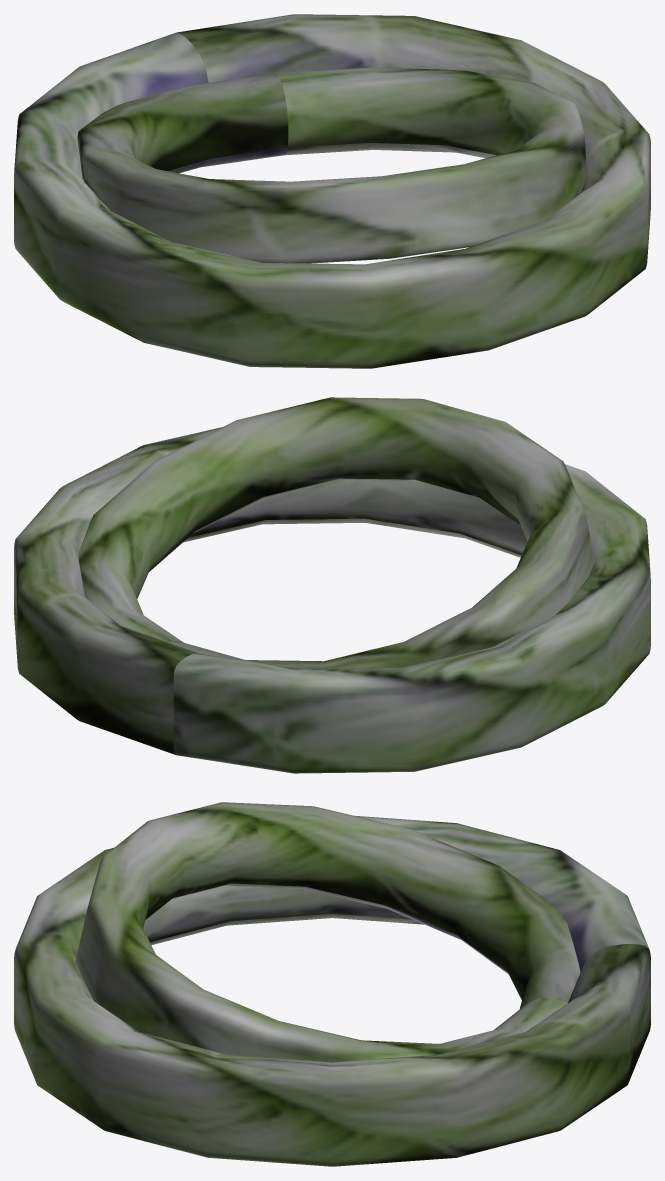
Rendered from Rope.fbx.
The picture shows the model from 3 angles, top to bottom: view 1: azimuth 30°, elevation 25°; view 2: azimuth 150°, elevation 25°; view 3: azimuth 270°, elevation 25°; orthographic projection.
Parts seen in each view (by area): view 1: Rope; view 2: Rope; view 3: Rope.
Boxes of the visible parts, left/top/right/bottom form: Rope: left=14, top=14, right=650, bottom=368; Rope: left=14, top=397, right=650, bottom=773; Rope: left=14, top=802, right=650, bottom=1166.
Size of the model in its own units: 360 by 102 by 362.
Materials: 1 (1 with a texture image).
